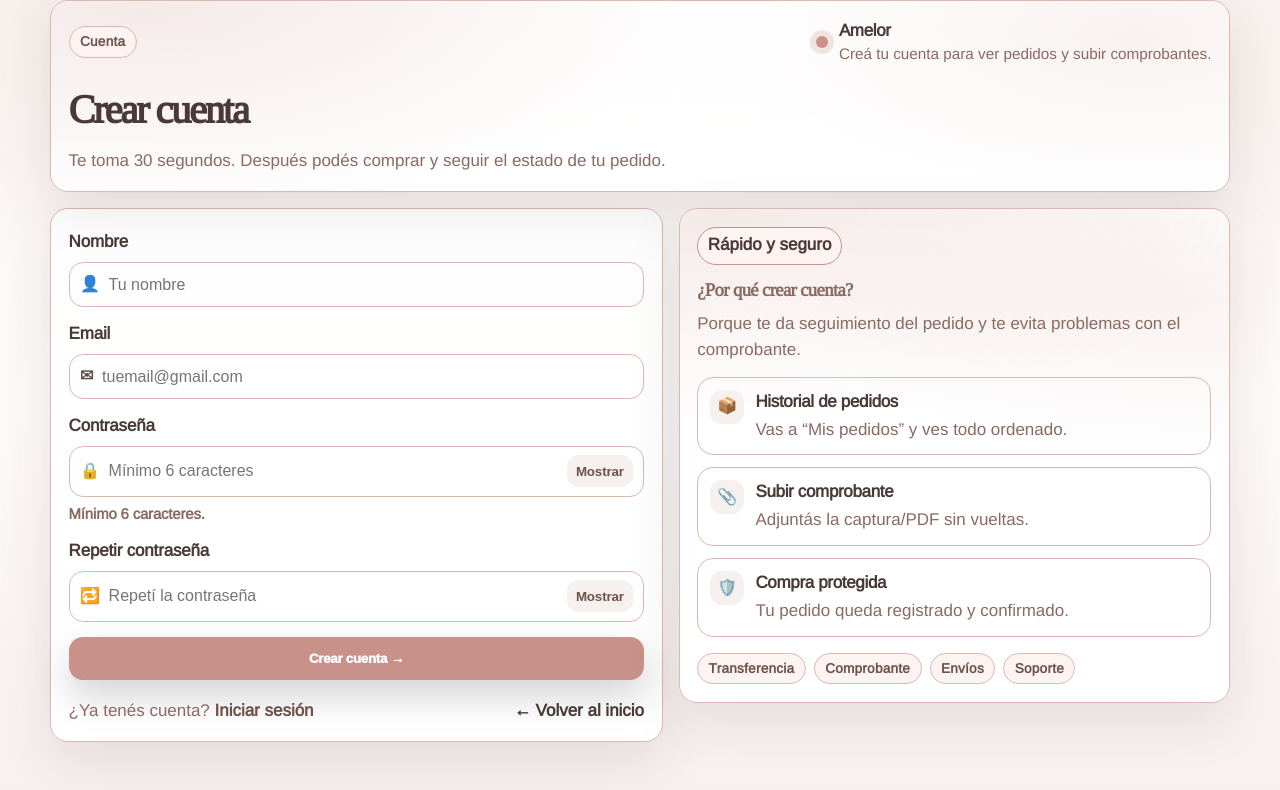
Register › marca el campo repetido como inválido mientras no coincide, sin pegarle al backend
The width and height of the screenshot is (1280, 790).
Step 1. Type "Ana" into the field labelled "Nombre" → (371, 284), box [109,272,633,298]
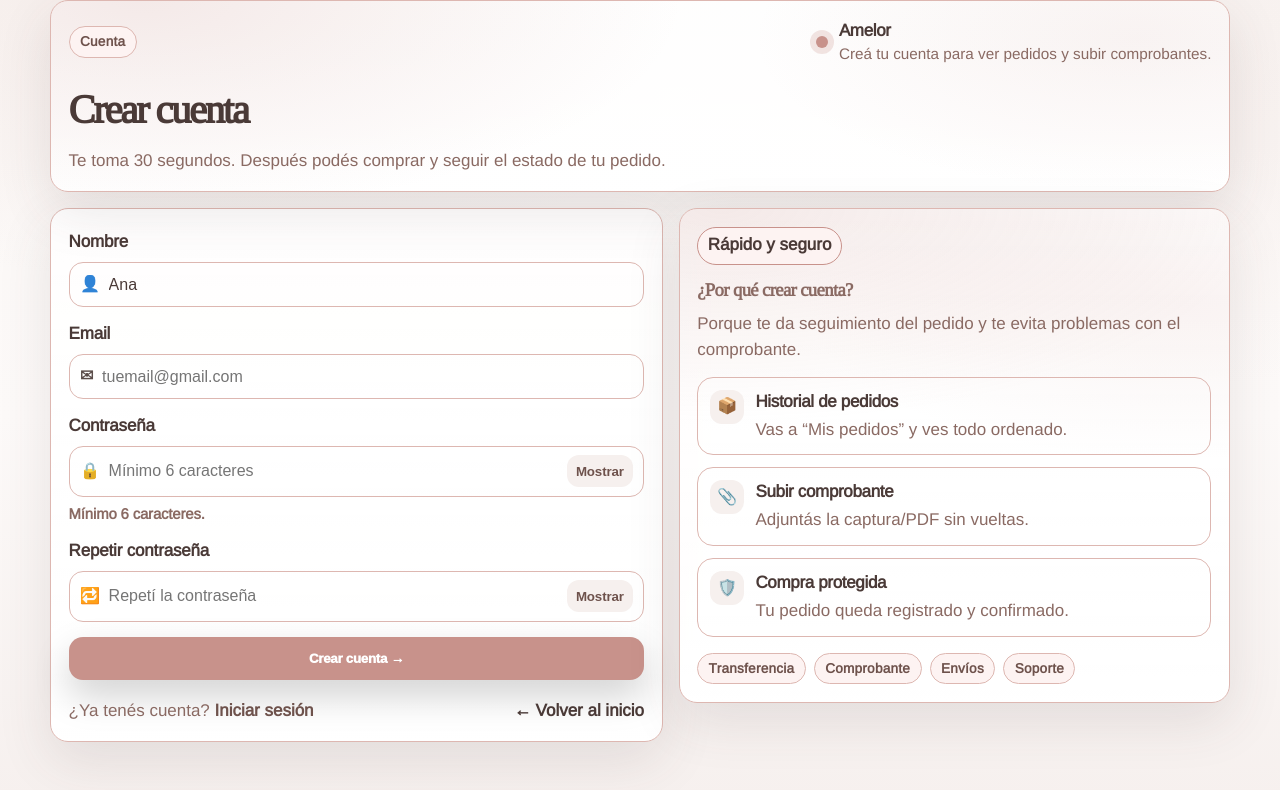
Step 2. Type "ana@mail.com" into the field labelled "Email" → (367, 376), box [102,364,633,390]
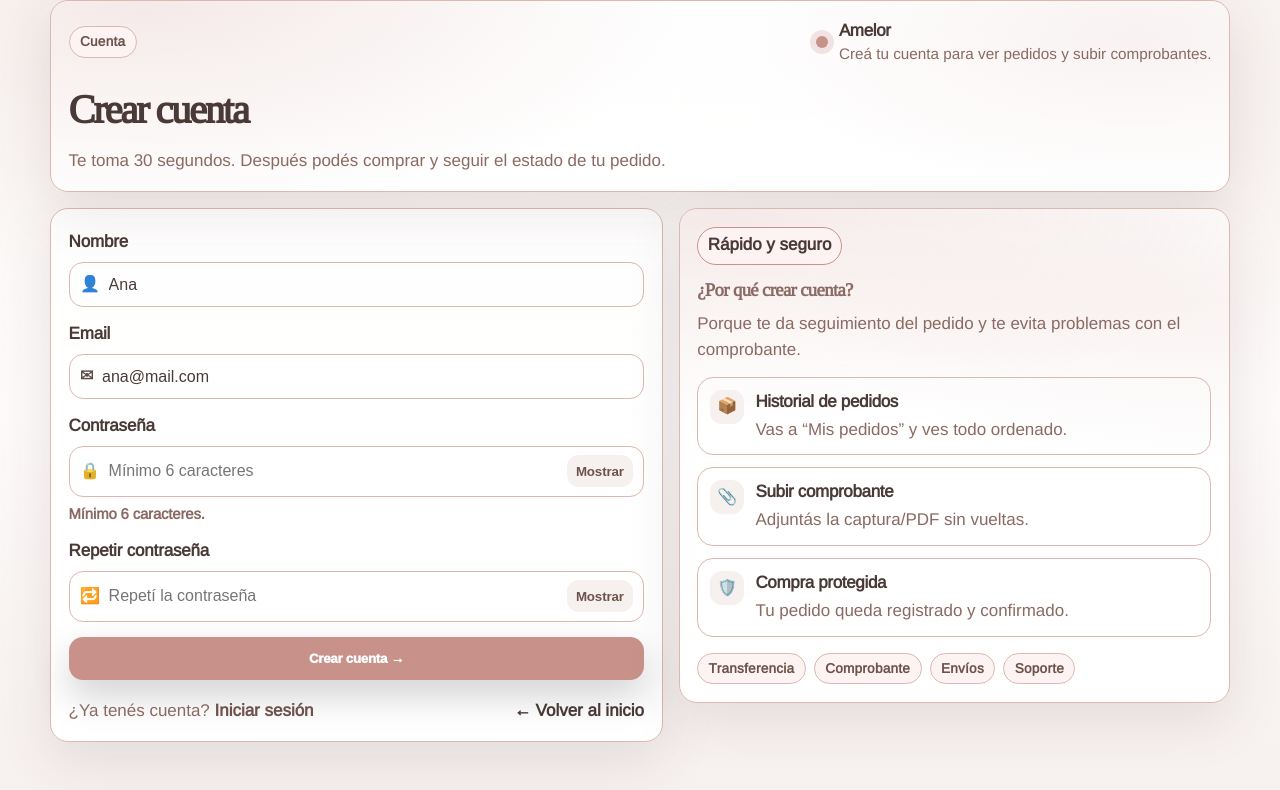
Step 3. Type "secreto1" into the password field labelled "Contraseña" → (333, 472), box [109,458,558,484]
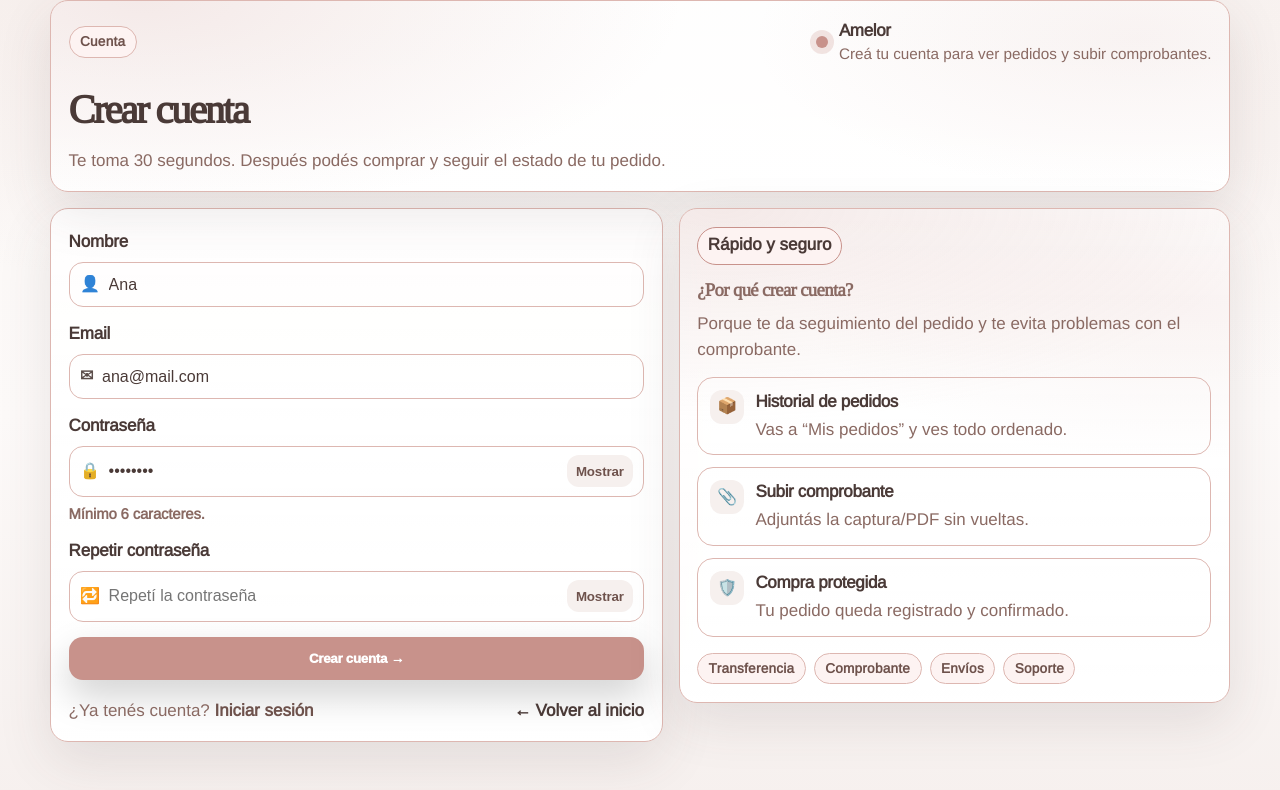
Step 4. Type "otra-cosa" into the password field labelled "Repetir contraseña" → (333, 596), box [109,583,558,609]
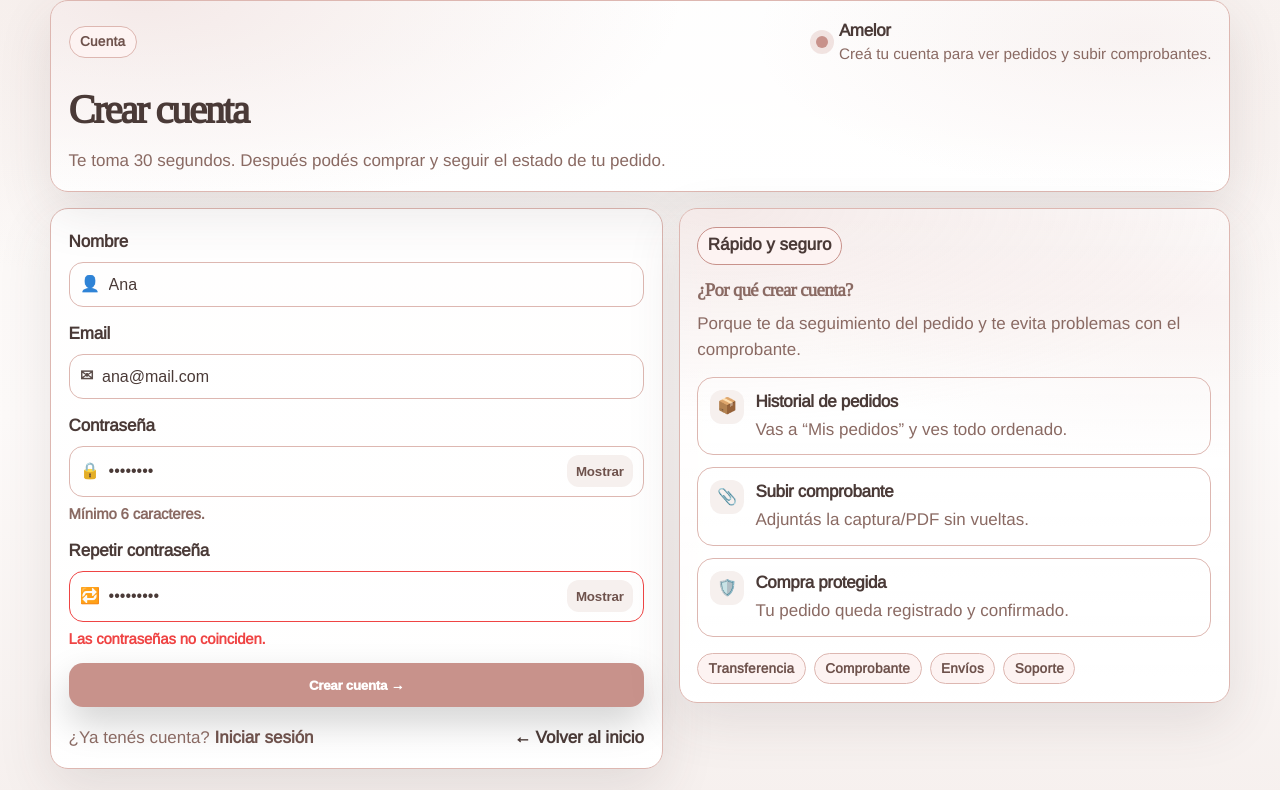
Result: the text "Las contraseñas no coinciden." is shown at [69,630,266,647]
Step 5. Submit the form, box [69,230,644,707]
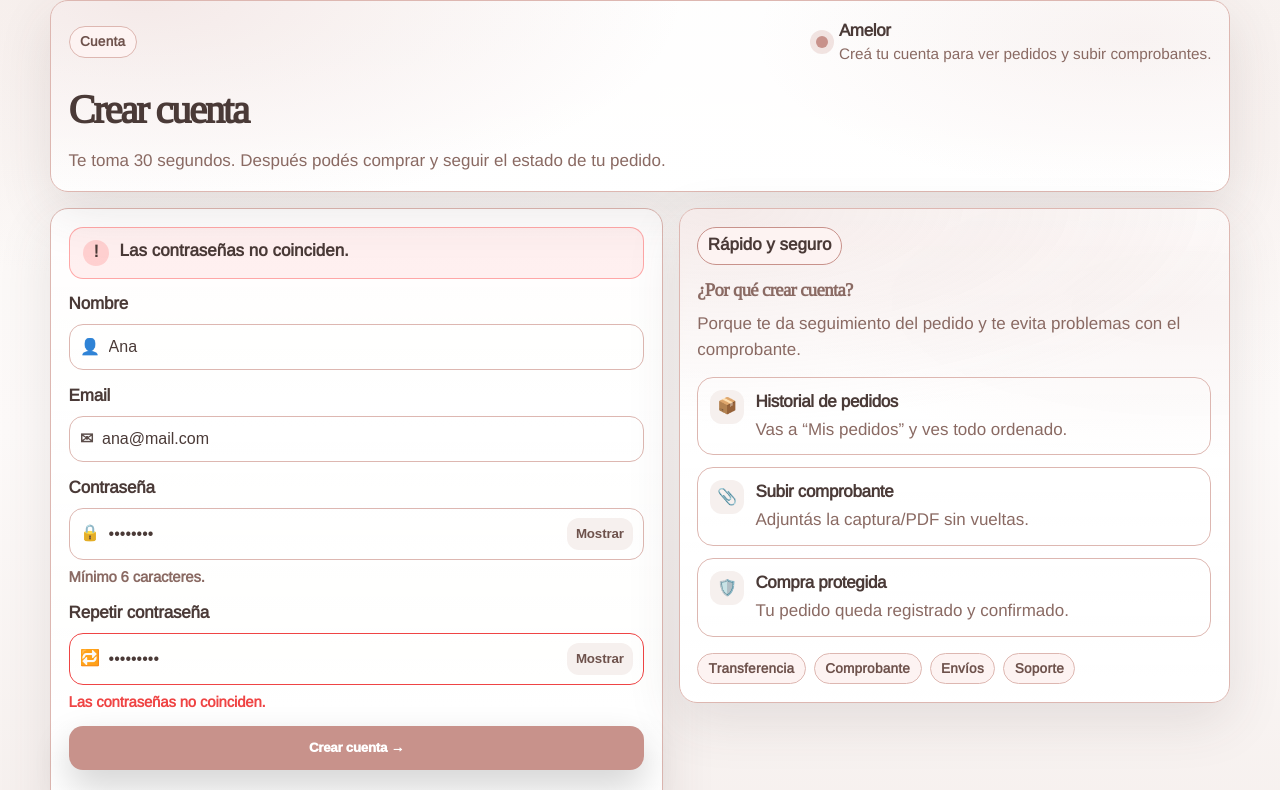
Result: the message shows "Las contraseñas no coinciden." at [120,241,349,260]
